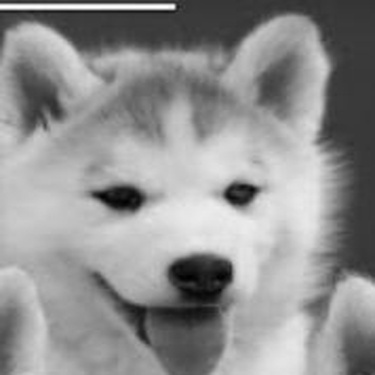dog: (1, 10, 370, 373)
